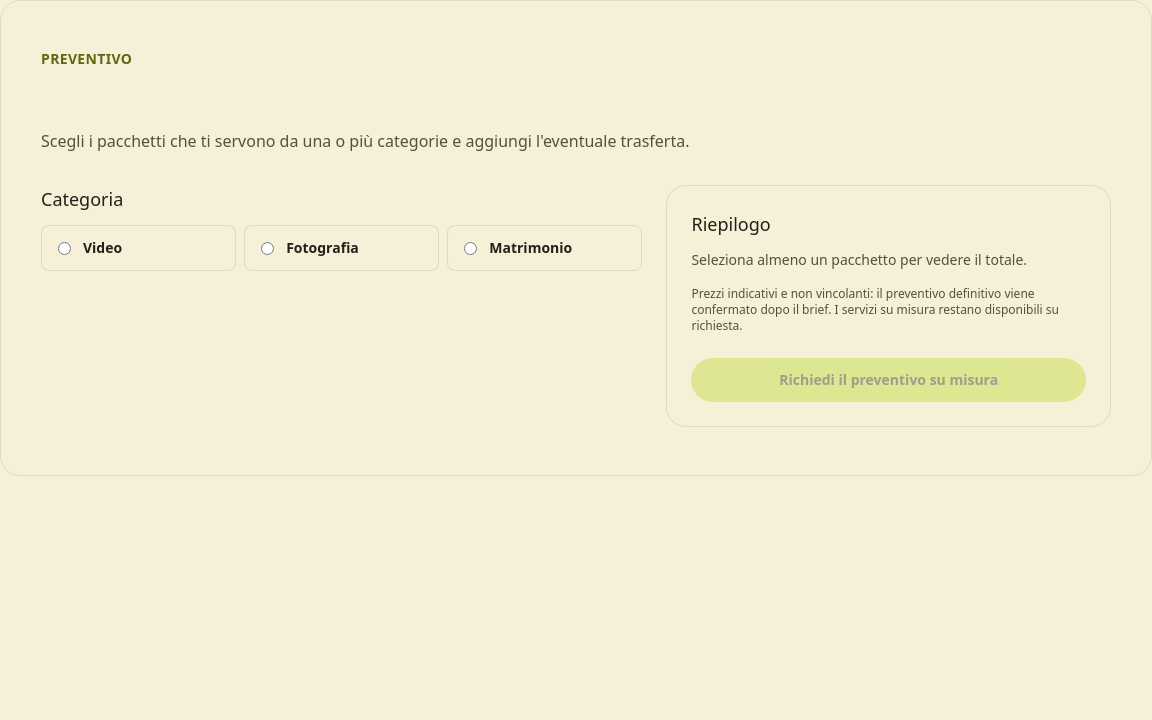
Test: QuoteEstimator › allows only one package per subcategory
Click the radio button labelled "Video". click: point(64, 248)
box: left=58, top=242, right=71, bottom=255
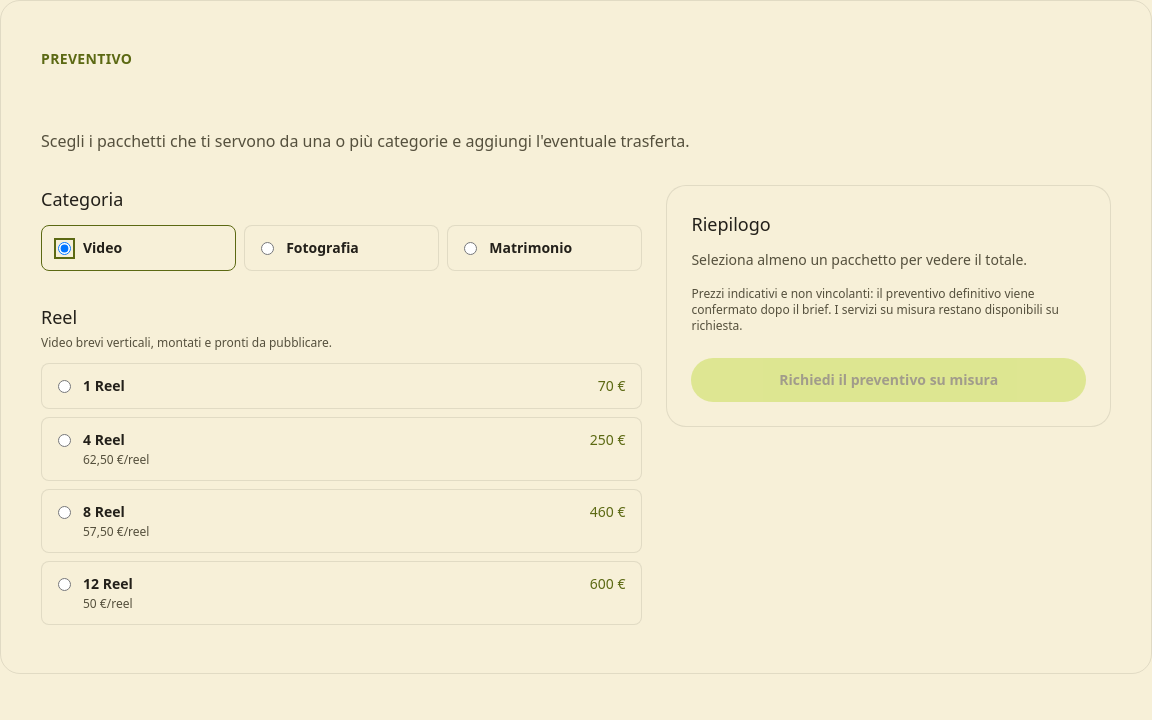
Click the radio button labelled "4 Reel 250 € 62,50 €/reel". click: point(64, 440)
box: left=58, top=434, right=71, bottom=447
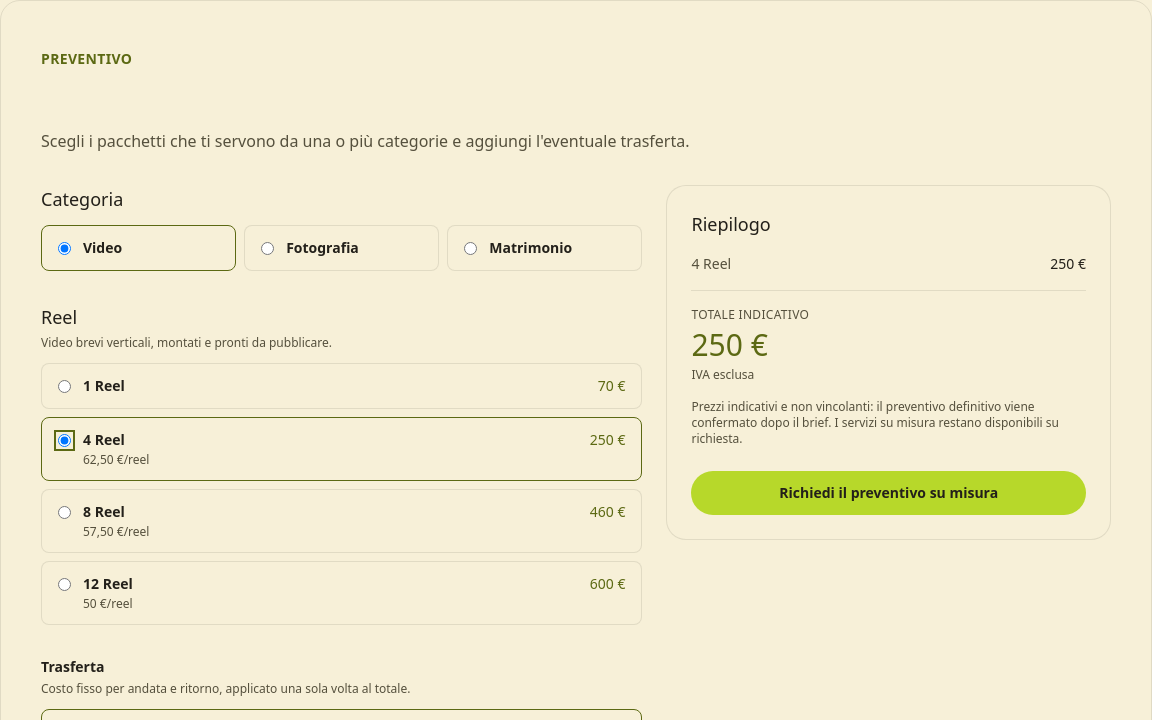
Click the radio button labelled "8 Reel 460 € 57,50 €/reel". click: point(64, 512)
box: left=58, top=506, right=71, bottom=519
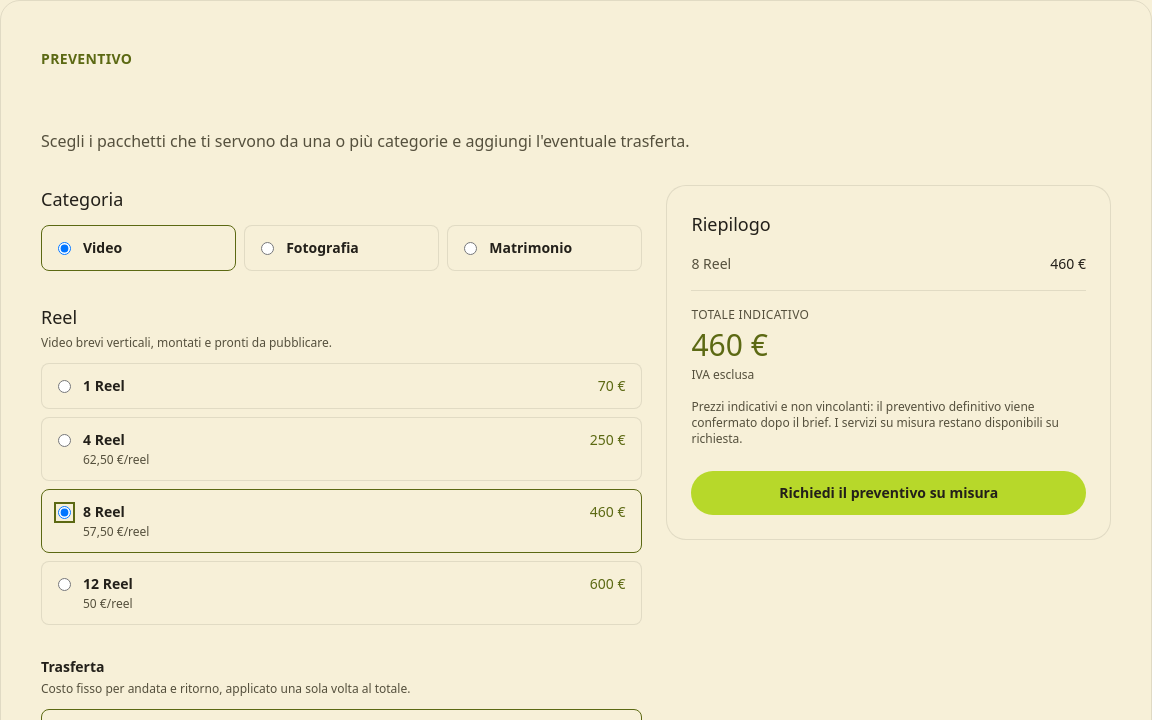
Expected: the radio button labelled "4 Reel 250 € 62,50 €/reel" is not checked, left=58, top=434, right=71, bottom=447
Expected: the radio button labelled "8 Reel 460 € 57,50 €/reel" is checked, left=58, top=506, right=71, bottom=519
Expected: the text "460 €" below "Totale indicativo" is shown, left=691, top=324, right=768, bottom=365
